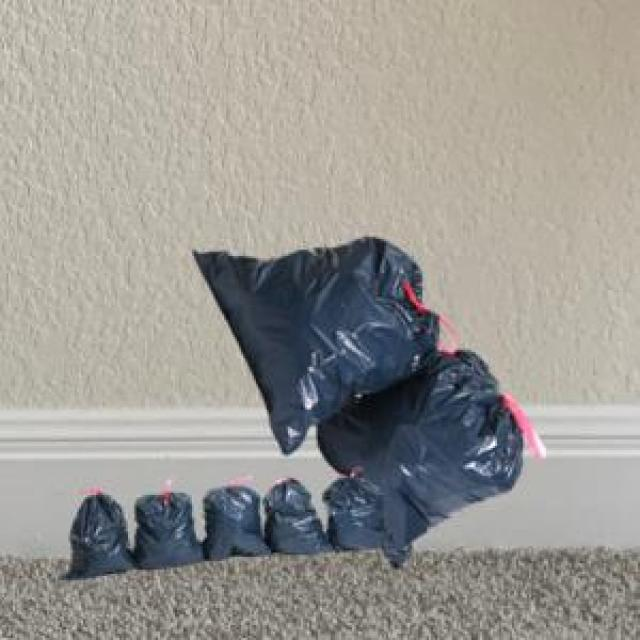Trashbag: (196, 236, 442, 464), (322, 477, 400, 567), (66, 488, 140, 580), (259, 472, 330, 566), (200, 480, 269, 569), (127, 492, 201, 568)
